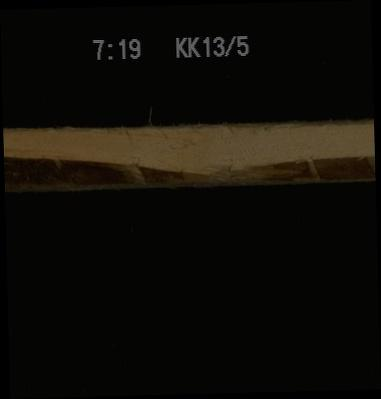wave: (4, 152, 375, 190)
